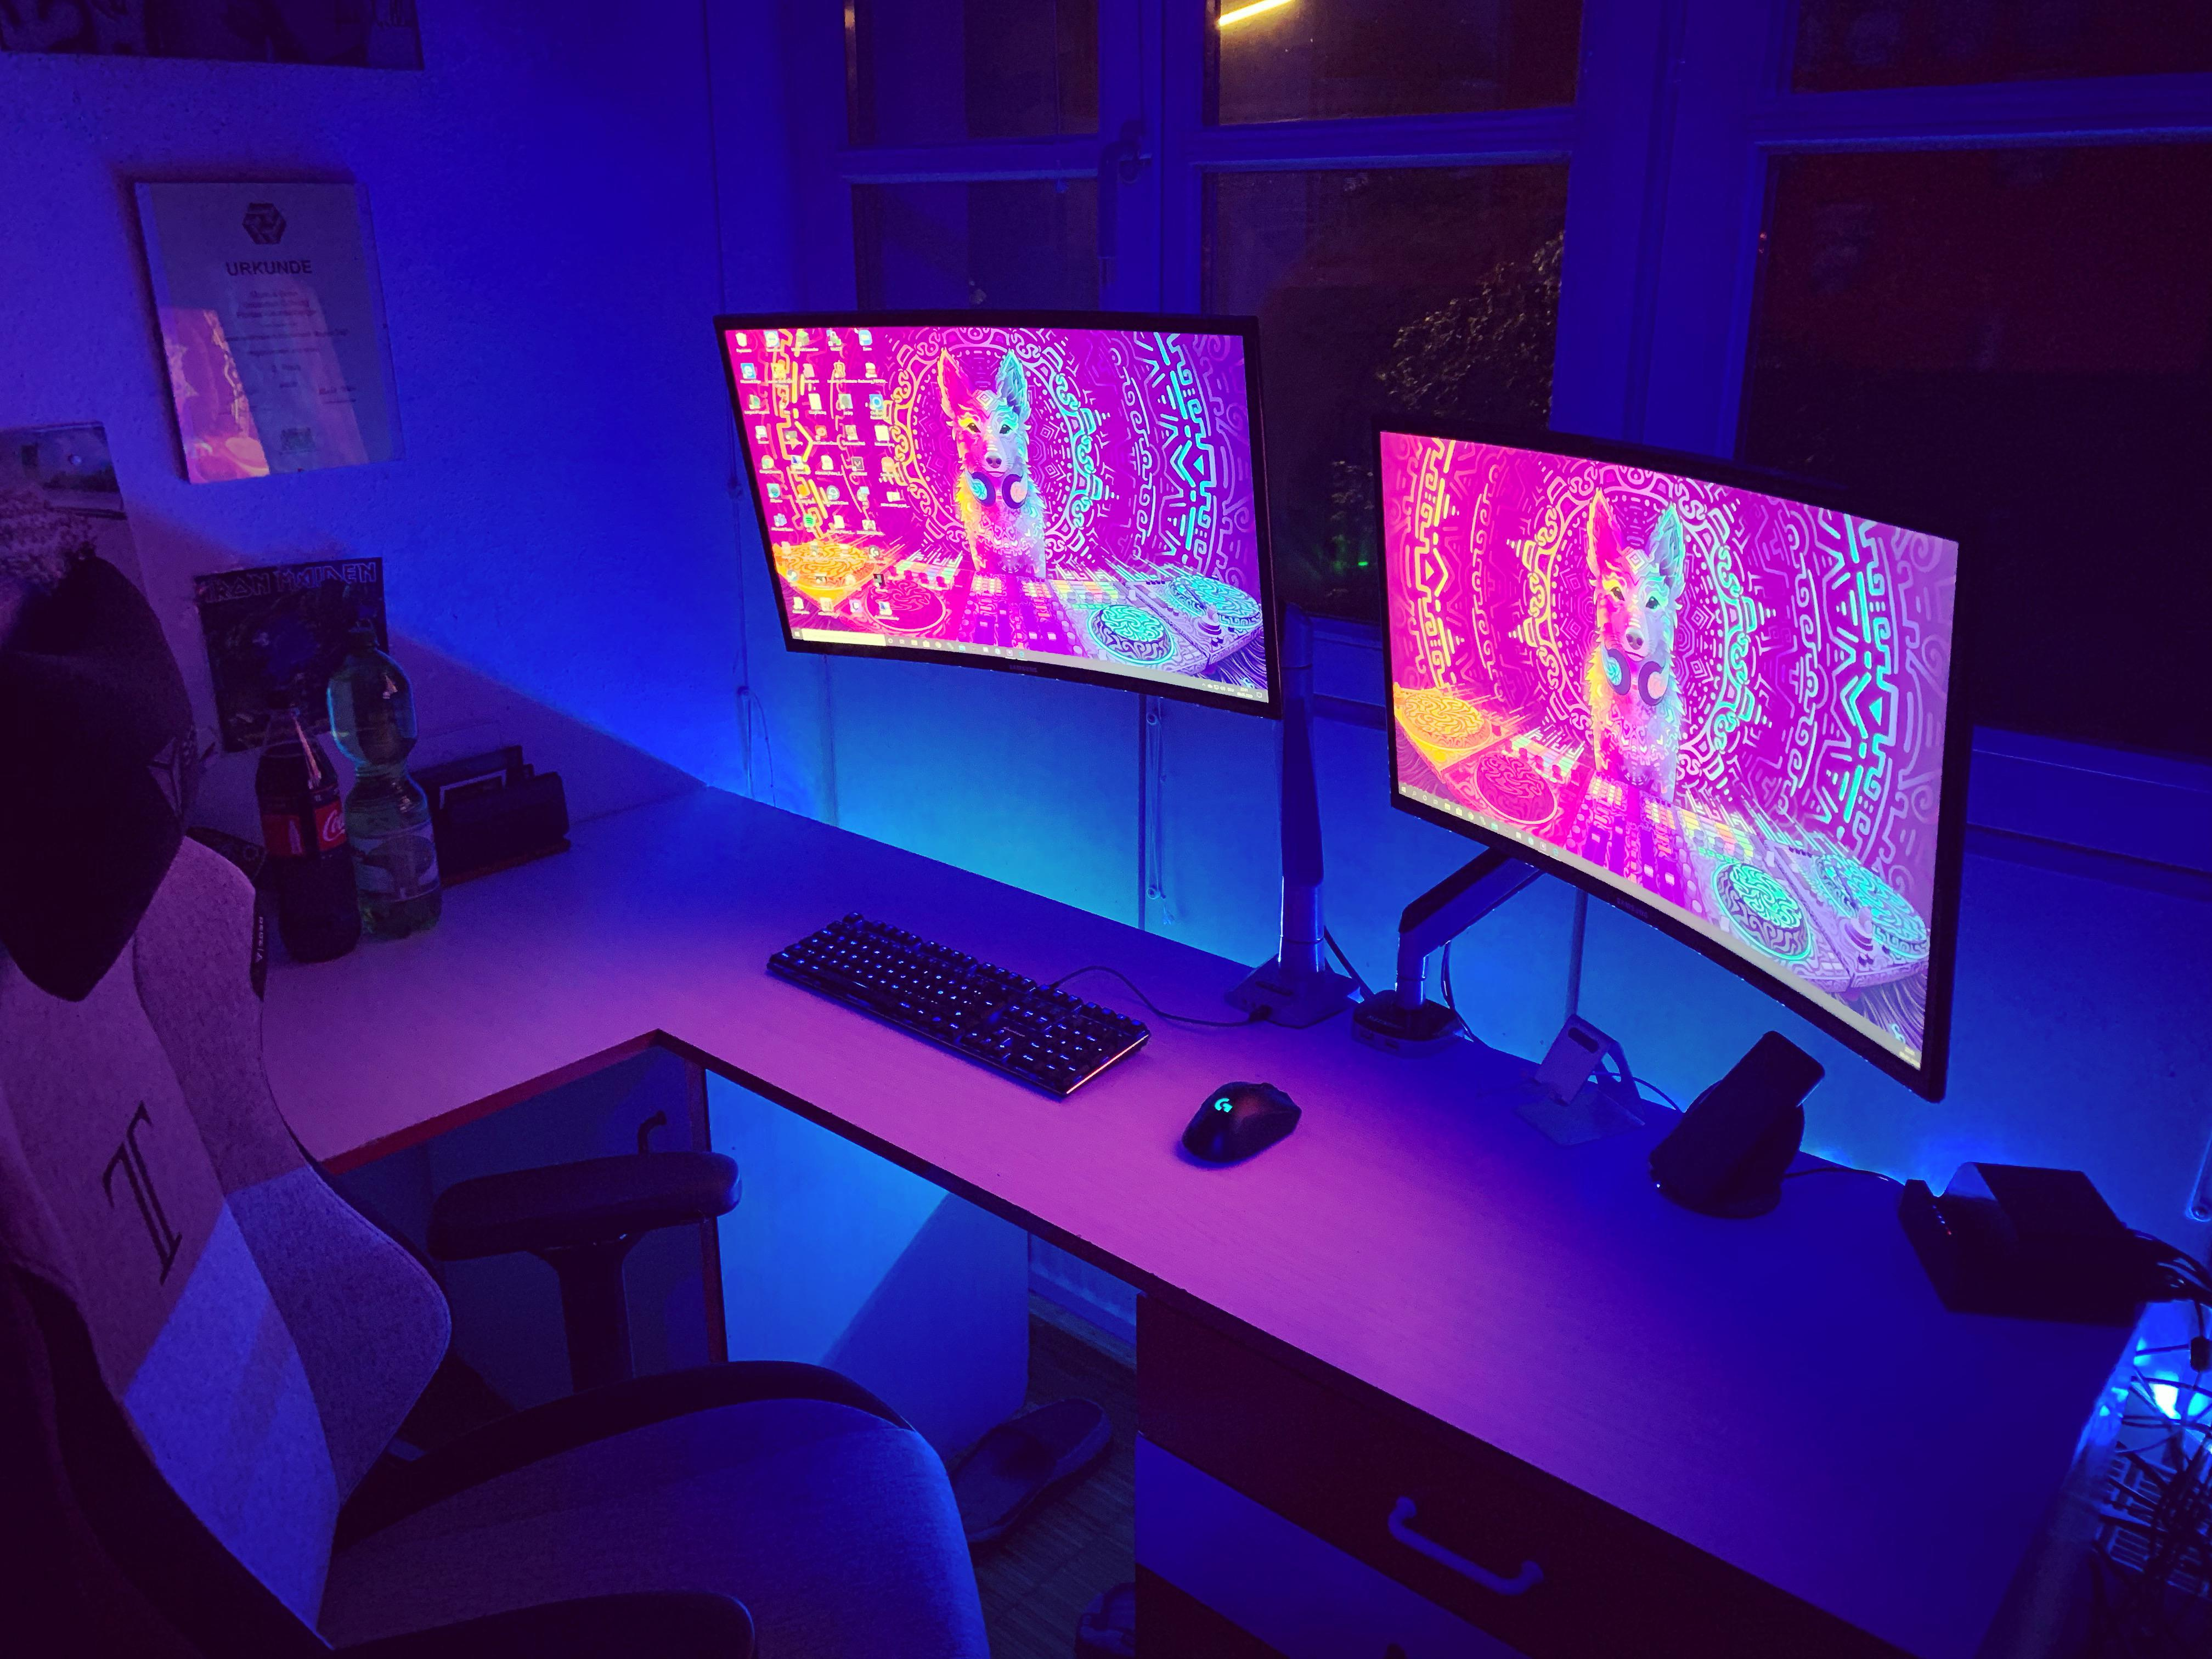Cellphone: (1642, 1025, 1829, 1194)
Cellphone Charger (Wireless): (1655, 1079, 1811, 1223)
Chair (Gaming): (2, 554, 995, 1657)
Desk (Generic): (254, 769, 2210, 1657)
Keyboard (Gaming): (768, 911, 1150, 1101)
Monitor (Landscape): (1359, 427, 1980, 1101), (707, 305, 1291, 725)
Mouse (Gaming): (1186, 1075, 1303, 1173)
Phone Holder: (1496, 1012, 1642, 1164)
Water Bottle: (247, 626, 451, 962)
